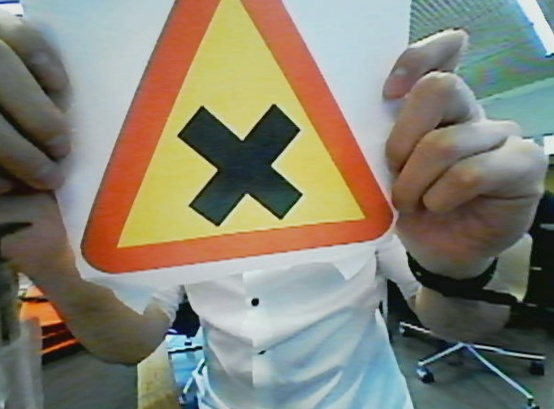junction: (64, 1, 397, 279)
